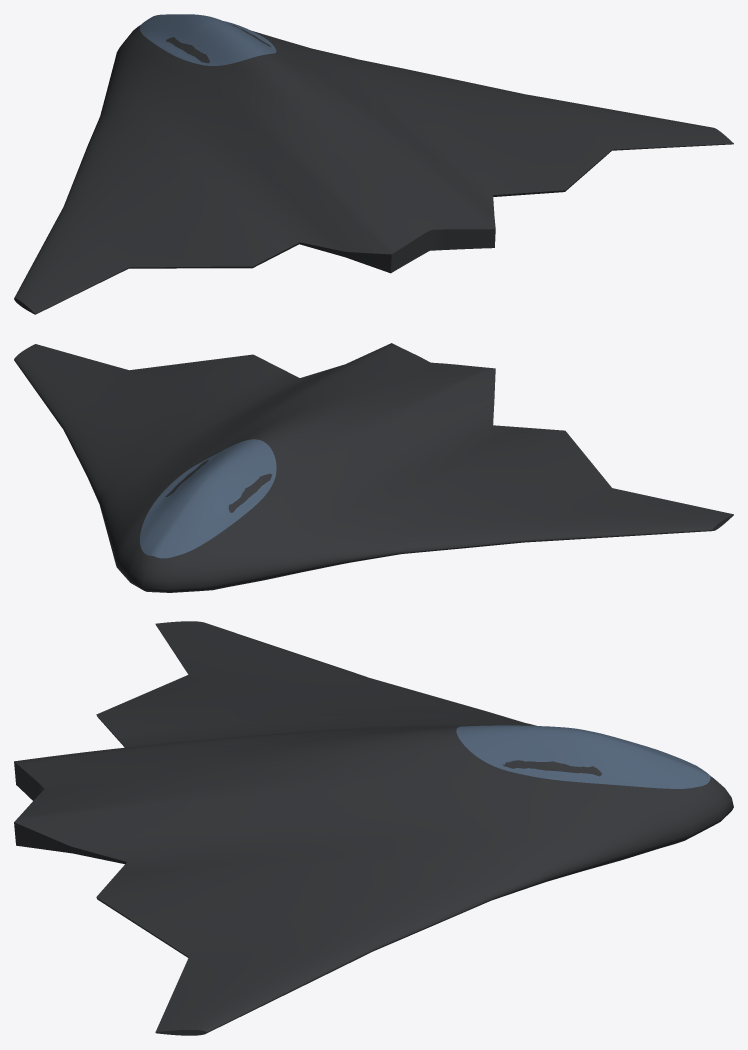
Rendered from Raie-loin.glb.
The picture shows the model from 3 angles, top to bottom: view 1: azimuth 30°, elevation 25°; view 2: azimuth 150°, elevation 25°; view 3: azimuth 270°, elevation 25°; orthographic projection. The views are drawn at different scales.
Visible parts, largest first — view 1: RaieLoinM; view 2: RaieLoinM; view 3: RaieLoinM.
Boxes of the visible parts, x1,y1,x2,y2 form: RaieLoinM: (14, 14, 733, 314); RaieLoinM: (14, 343, 733, 592); RaieLoinM: (14, 621, 733, 1035).
Bounding box in the file's own units: 18.8 × 2.25 × 14.
